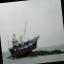fishing boat: (4, 16, 42, 62)
